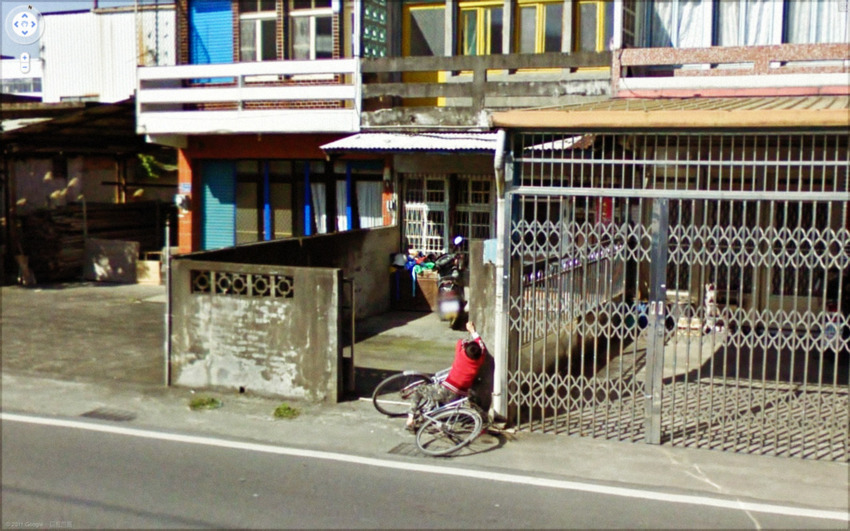people: (420, 322, 489, 429)
